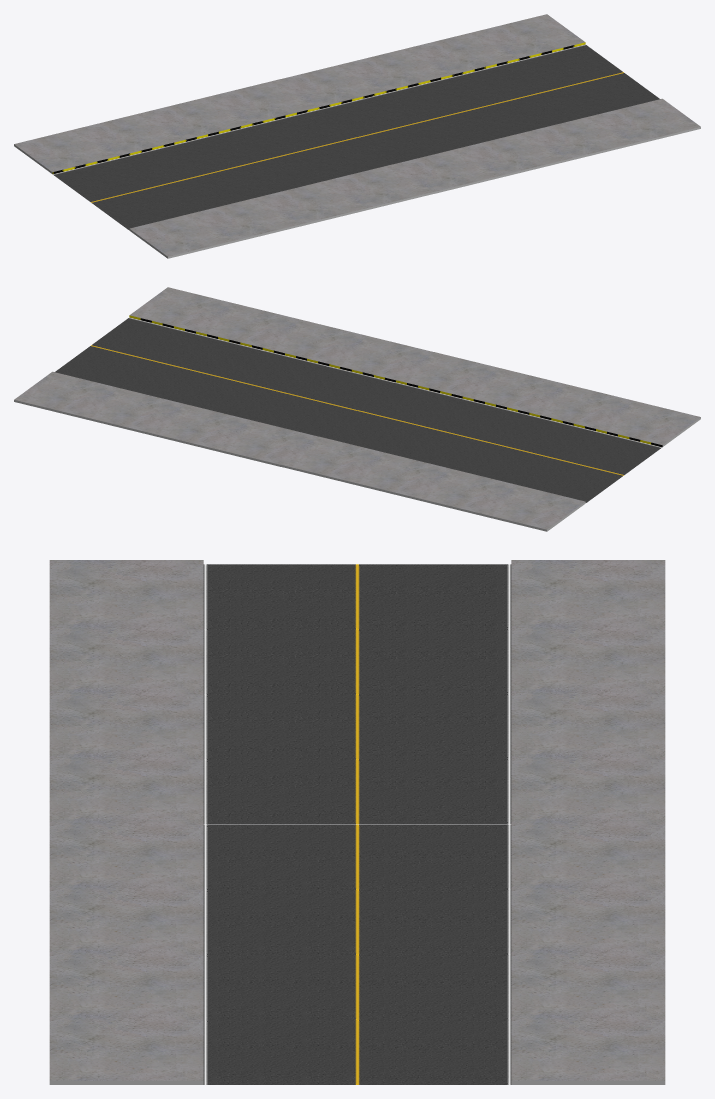
File: Roads.fbx
The picture shows the model from 3 angles, top to bottom: view 1: azimuth 30°, elevation 25°; view 2: azimuth 150°, elevation 25°; view 3: azimuth 270°, elevation 25°; orthographic projection. The views are drawn at different scales.
Parts seen in each view (by area): view 1: 2Lanes.002, 2Lanes.001; view 2: 2Lanes.002, 2Lanes.001; view 3: 2Lanes.001, 2Lanes.002.
Boxes of the visible parts, box(x1,y1,x2,y2) form: 2Lanes.002: box(14, 79, 434, 258); 2Lanes.001: box(281, 14, 700, 193); 2Lanes.002: box(280, 352, 700, 531); 2Lanes.001: box(14, 287, 433, 466); 2Lanes.001: box(49, 820, 665, 1084); 2Lanes.002: box(49, 560, 665, 824).
Size of the model in its own units: 2400 by 9.57 by 1200.
20 materials, 18 textured.
